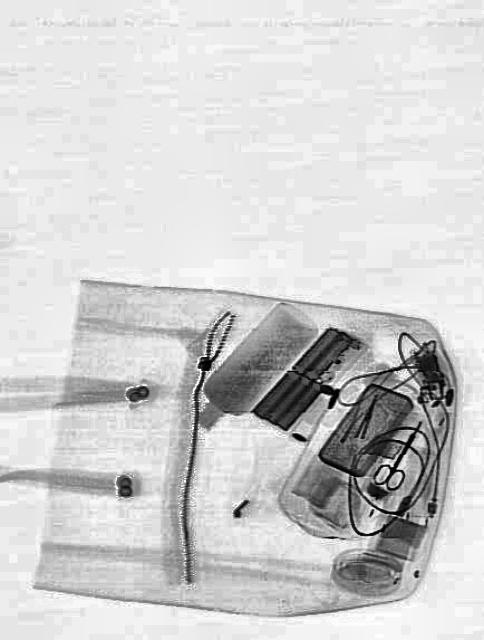Scissors: (370, 410, 430, 498)
